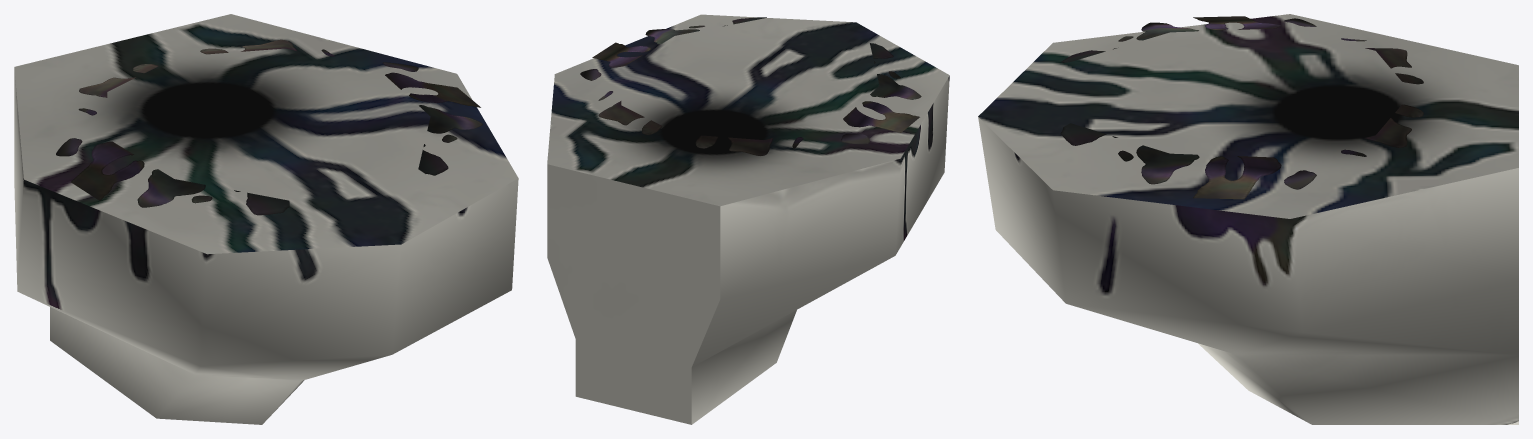
File: obj_interactive_stafftoilet_lod1.fbx
The picture shows the model from 3 angles, left to right: view 1: azimuth 30°, elevation 25°; view 2: azimuth 150°, elevation 25°; view 3: azimuth 270°, elevation 25°; orthographic projection. The views are drawn at different scales.
Parts seen in each view (by area): view 1: pCube7; view 2: pCube7; view 3: pCube7.
Part boxes in pixels (x1,y1,x2,y2): pCube7: (14, 14, 518, 424); pCube7: (547, 14, 949, 424); pCube7: (978, 14, 1518, 424).
Bounding box in the file's own units: 2.69 × 1.83 × 3.
1 material, 1 textured.
